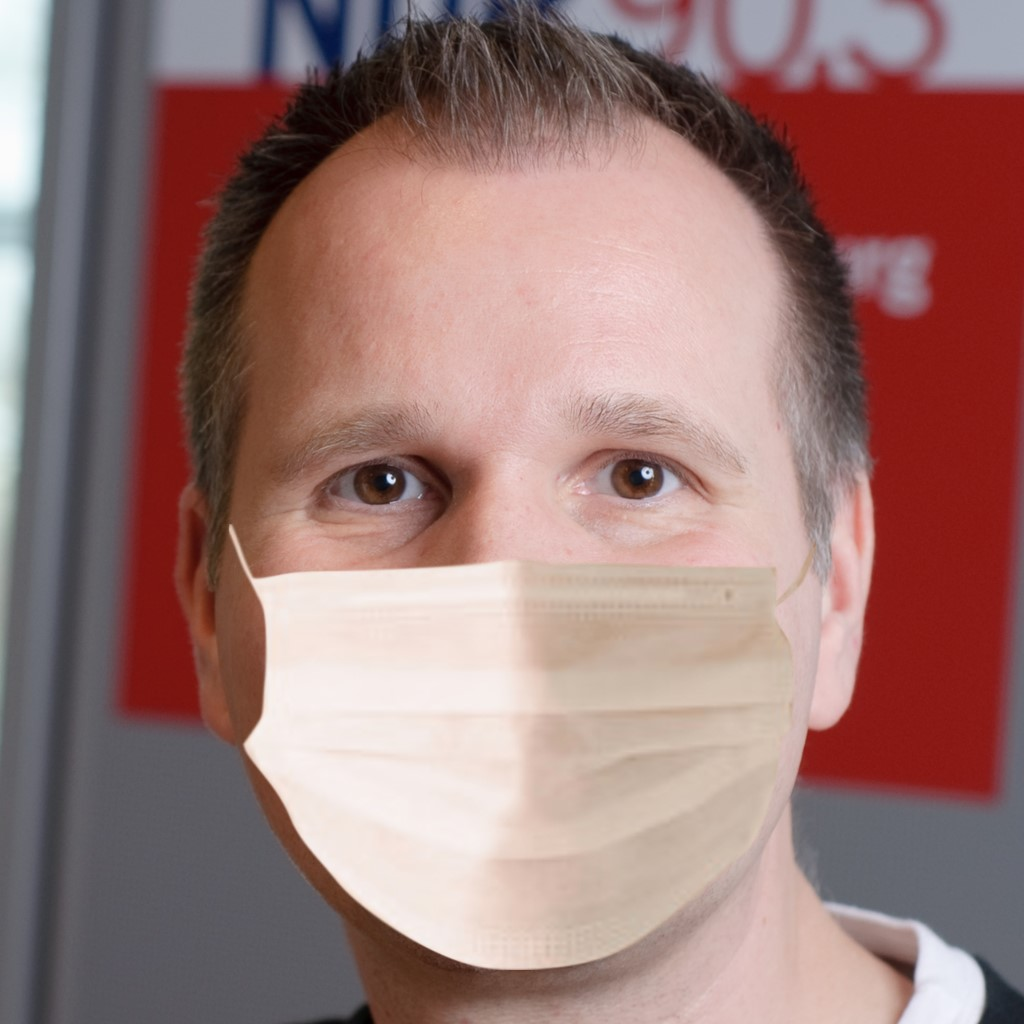con_mascara: (186, 79, 864, 979)
